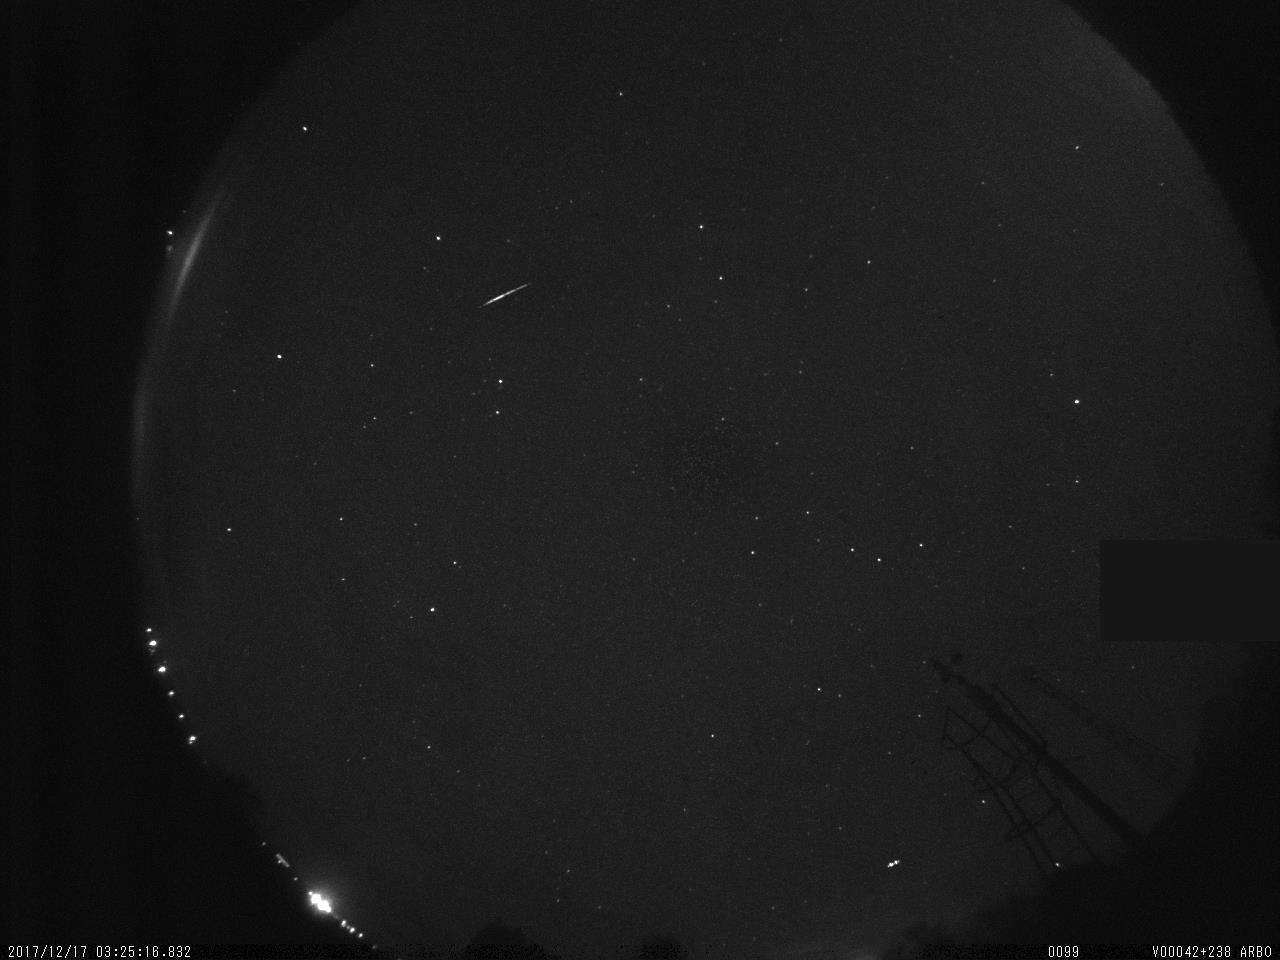meteor: (460, 269, 548, 325)
